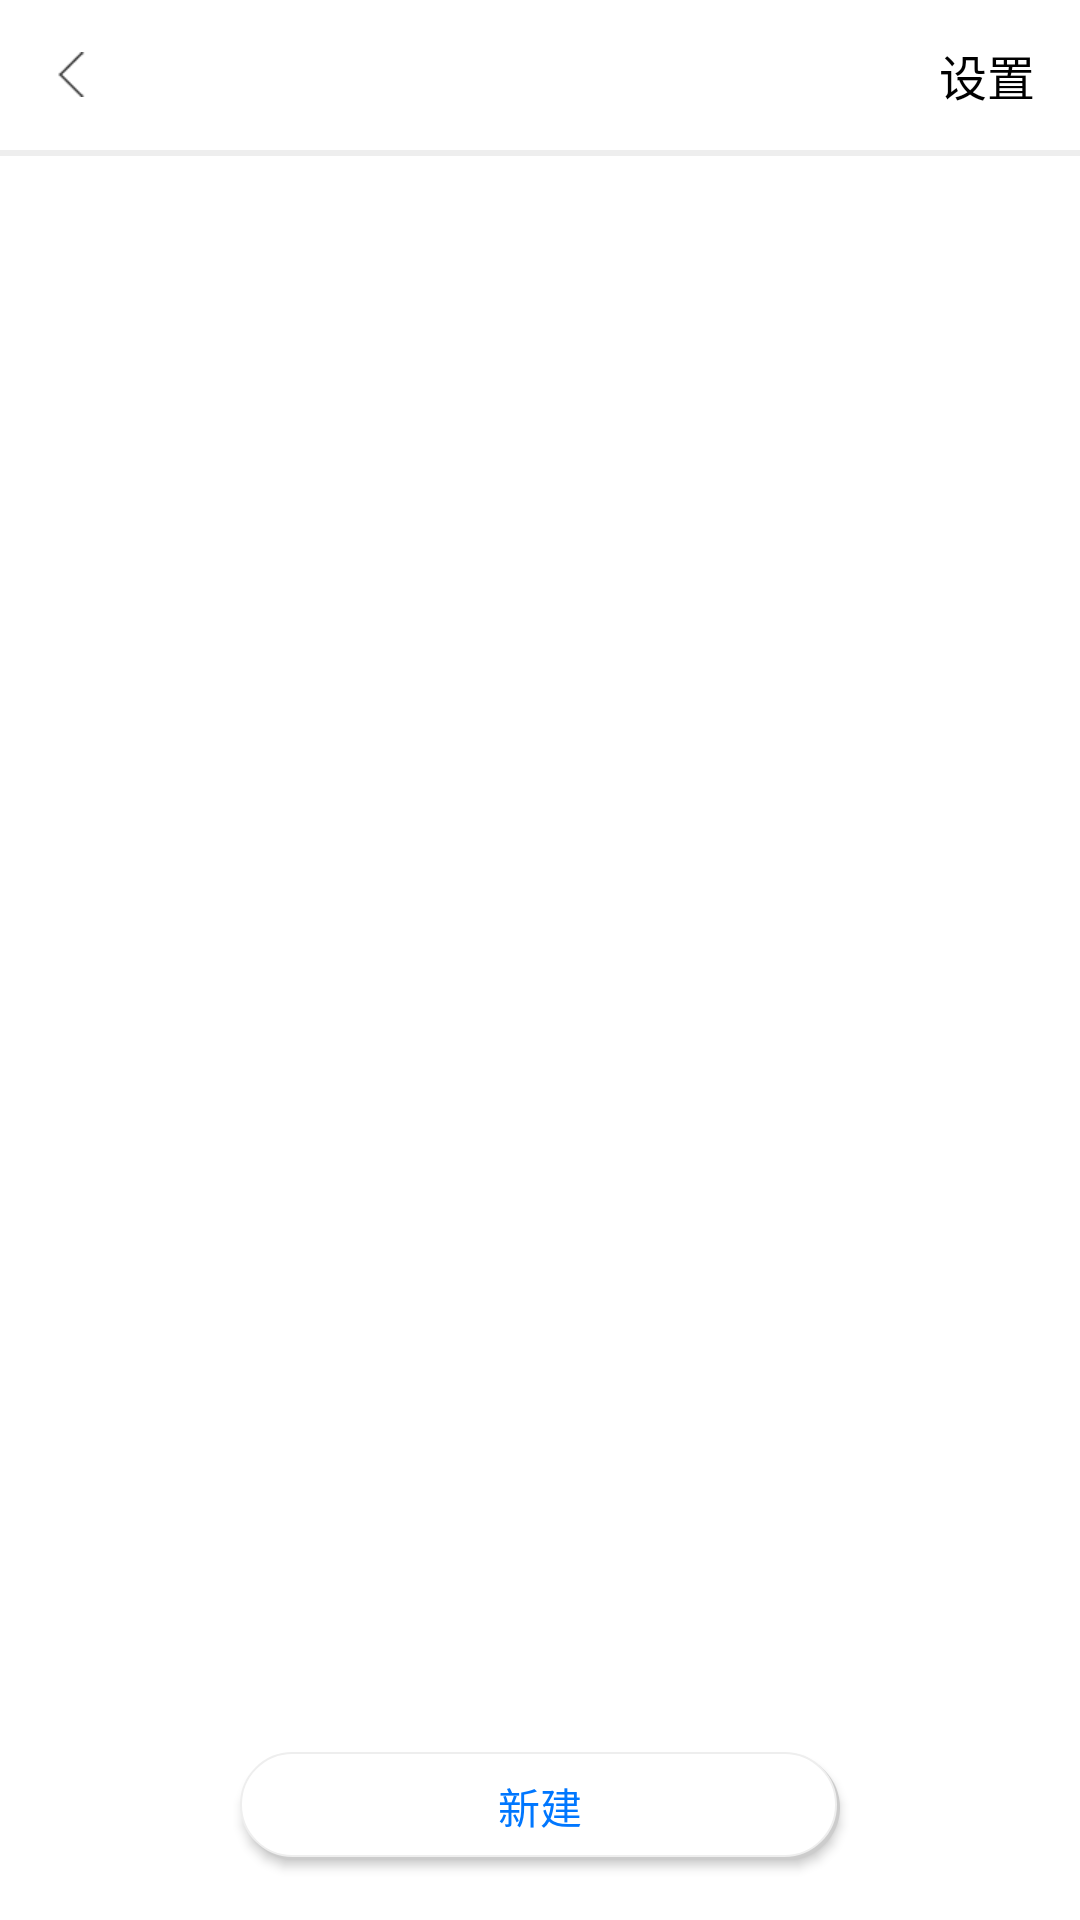

Icon bounding boxes for this 1080x1920 phone screenshot, format (x1, y1, x2, y2):
back: (58, 52, 84, 97)
